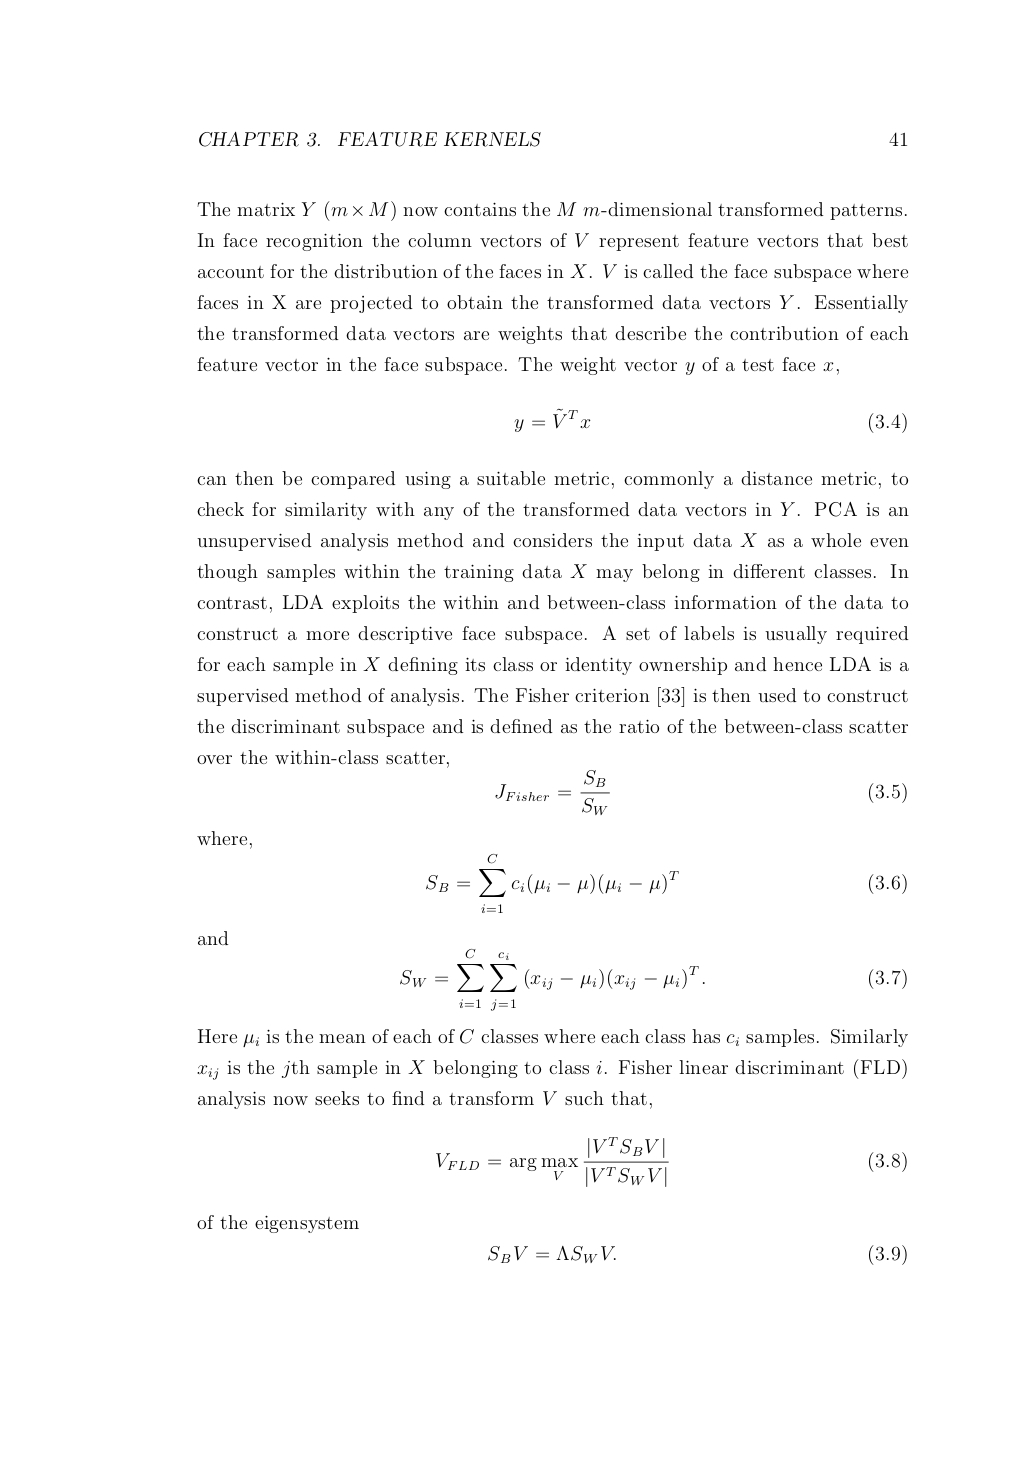formula: (399, 948, 906, 1009), (426, 853, 906, 912), (436, 1136, 906, 1187), (495, 770, 906, 815), (514, 407, 906, 433), (488, 1244, 906, 1265)
